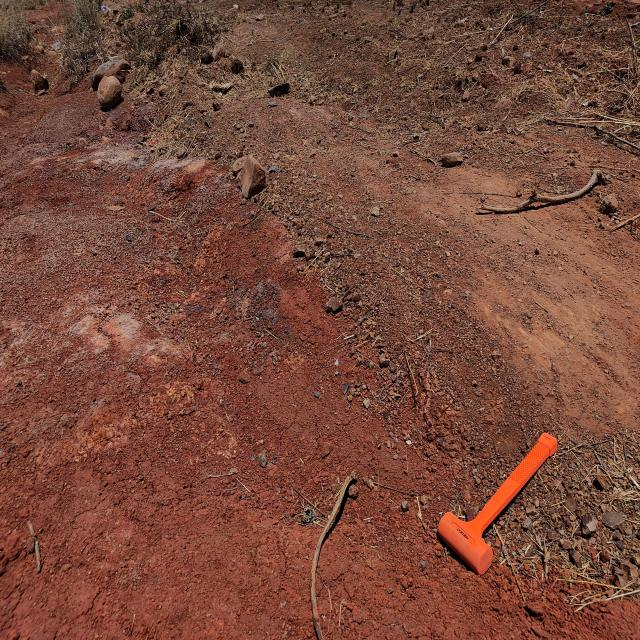Orange_hammer: (436, 431, 558, 575)
